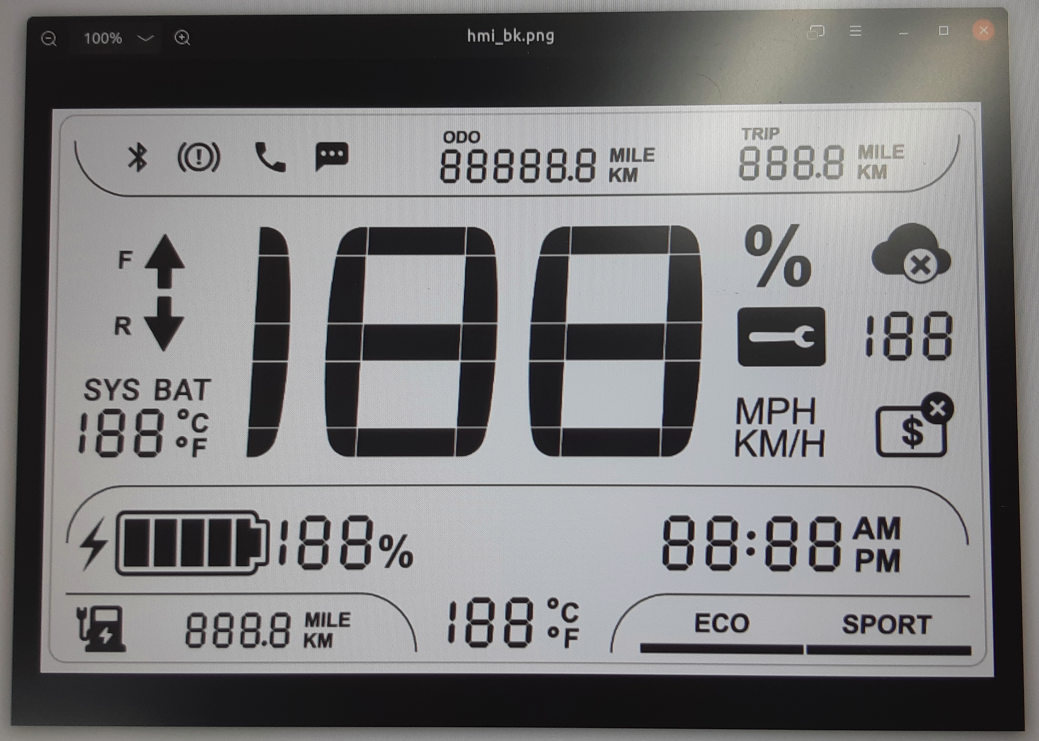bluetooth_on: (123, 137, 156, 178)
braking_on: (174, 138, 224, 175)
calling_on: (249, 137, 290, 175)
connection_lost: (867, 219, 954, 288)
error_code: (733, 304, 831, 370)
low_battery: (71, 601, 132, 657)
sms_on: (310, 137, 351, 177)
vin_id: (870, 388, 957, 461)
